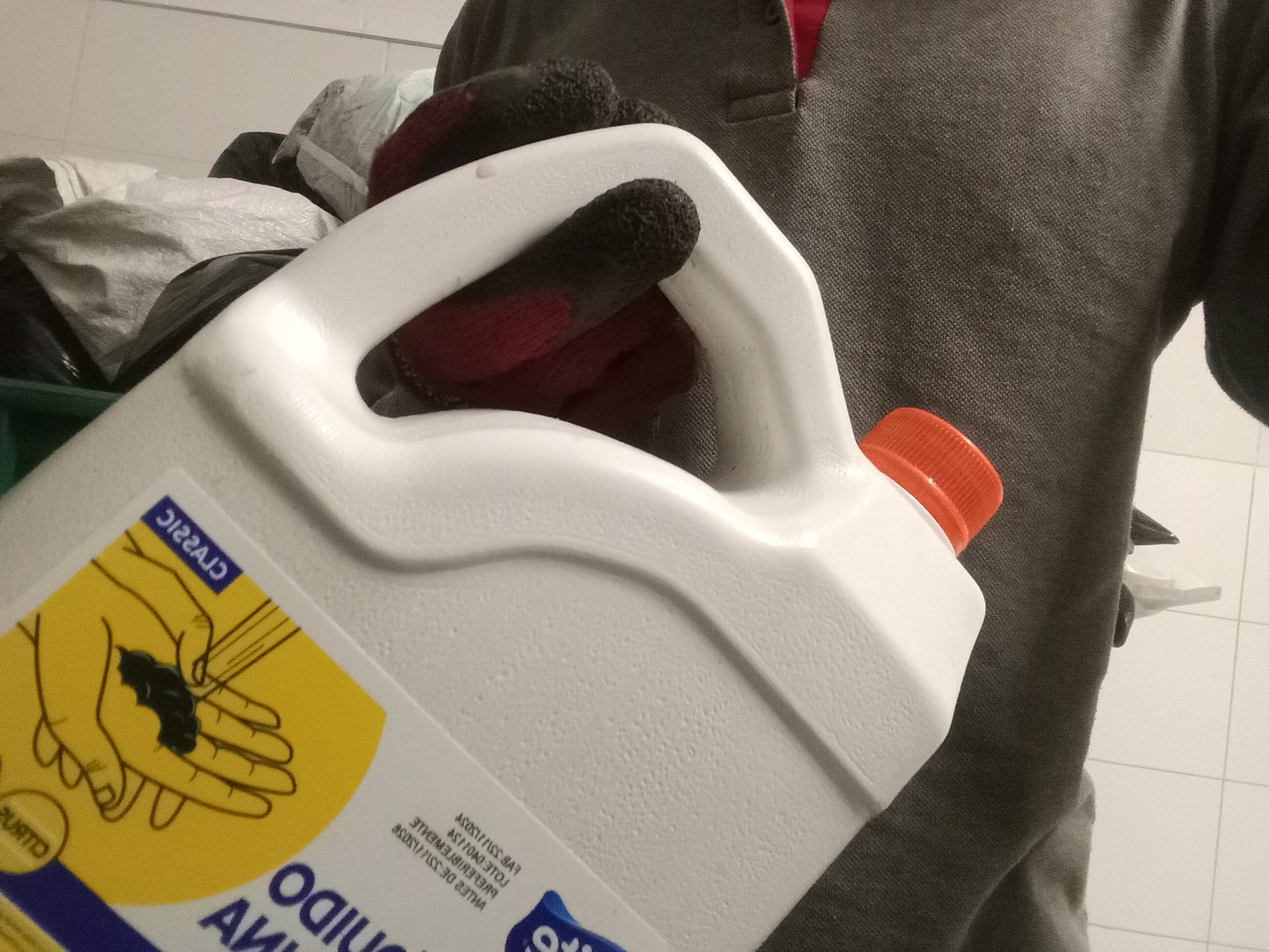Plastico: (0, 121, 1006, 952)
